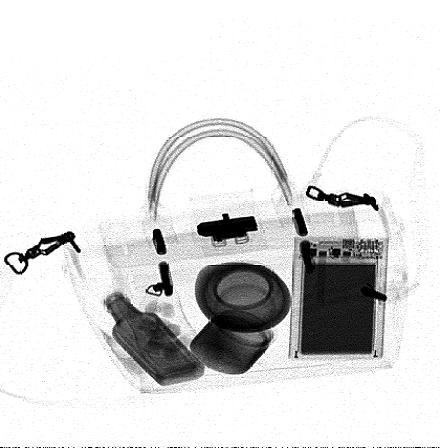Powerbank: (287, 236, 387, 358)
